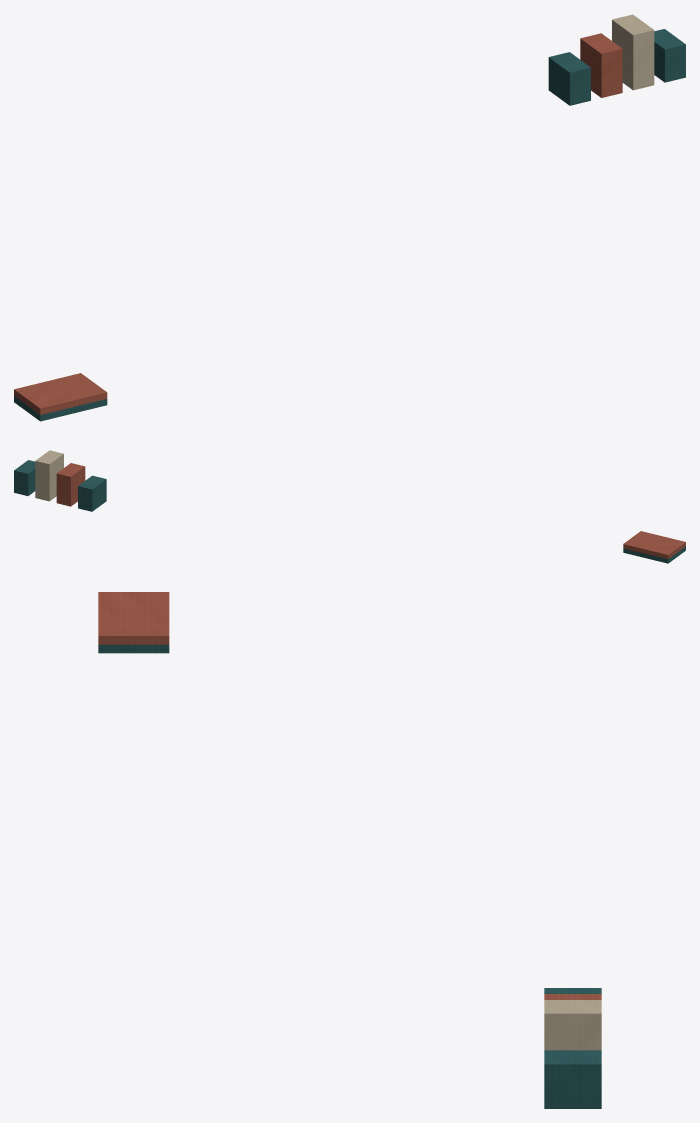
Rendered from detail_props.glb.
3 renders of one model, top to bottom at view 1: azimuth 30°, elevation 25°; view 2: azimuth 150°, elevation 25°; view 3: azimuth 270°, elevation 25°, orthographic. The views are drawn at different scales.
Parts seen in each view (by area): view 1: SUI_DeskBook_2, SUI_TableBook_1, SUI_DeskBook_1, SUI_DeskBook_0, SUI_DeskBook_3, SUI_TableBook_0; view 2: SUI_DeskBook_2, SUI_TableBook_1, SUI_DeskBook_1, SUI_DeskBook_0, SUI_DeskBook_3, SUI_TableBook_0; view 3: SUI_TableBook_1, SUI_DeskBook_3, SUI_DeskBook_2.
Boxes of the visible parts, x1,y1,x2,y2 form: SUI_DeskBook_2: (612,14,654,90); SUI_TableBook_1: (14,373,107,414); SUI_DeskBook_1: (580,33,622,97); SUI_DeskBook_0: (548,52,590,105); SUI_DeskBook_3: (654,29,685,82); SUI_TableBook_0: (14,396,107,421); SUI_DeskBook_2: (35,450,63,501); SUI_TableBook_1: (623,531,685,559); SUI_DeskBook_1: (56,463,85,506); SUI_DeskBook_0: (78,475,106,511); SUI_DeskBook_3: (14,460,35,495); SUI_TableBook_0: (623,546,685,563); SUI_TableBook_1: (98,592,169,644); SUI_DeskBook_3: (544,1050,601,1108); SUI_DeskBook_2: (544,1000,601,1050).
Size of the model in its own units: 4.61 by 0.435 by 1.84.
3 materials, 3 textured.
